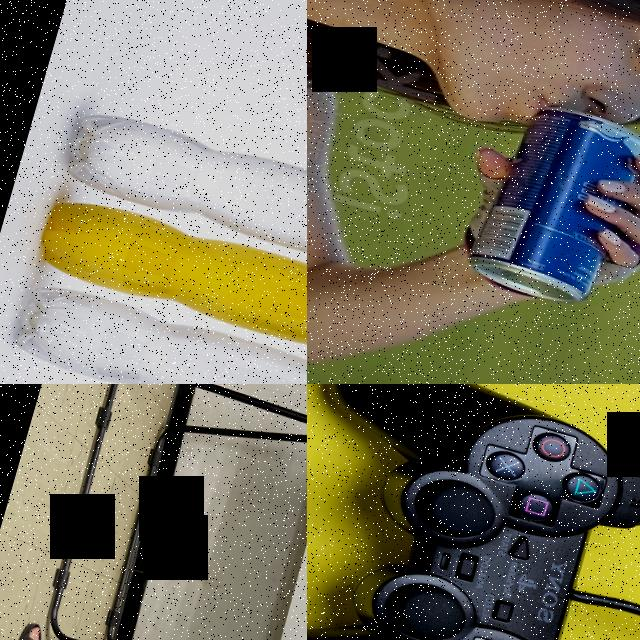bottle: (56, 101, 307, 327), (29, 188, 307, 384), (5, 274, 307, 384)
can: (463, 89, 640, 318)
